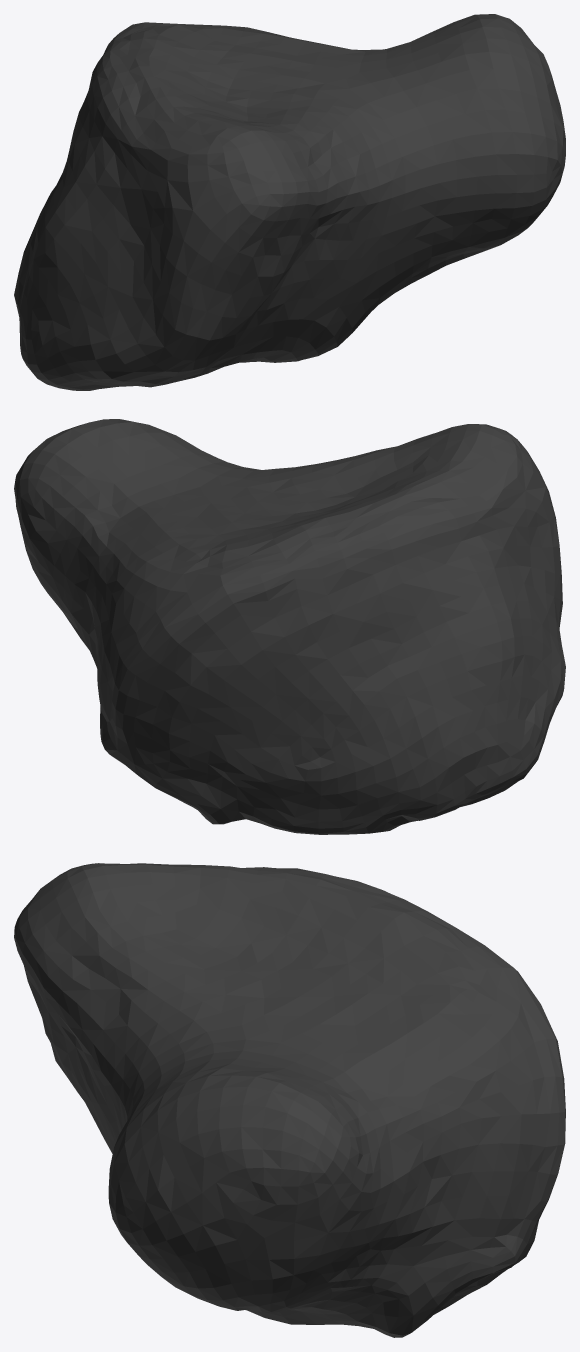
Rendered from tarsal_central_L.glb.
The picture shows the model from 3 angles, top to bottom: view 1: azimuth 30°, elevation 25°; view 2: azimuth 150°, elevation 25°; view 3: azimuth 270°, elevation 25°; orthographic projection. The views are drawn at different scales.
Visible parts, largest first — view 1: tarsal_central_L; view 2: tarsal_central_L; view 3: tarsal_central_L.
Boxes of the visible parts, x1,y1,x2,y2 form: tarsal_central_L: (14, 14, 565, 390); tarsal_central_L: (14, 419, 565, 834); tarsal_central_L: (14, 863, 565, 1337).
Bounding box in the file's own units: 0.0275 × 0.0165 × 0.0223.
Materials: 1 (1 with a texture image).
